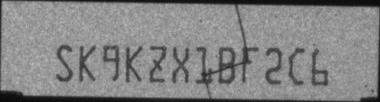1: (195, 45, 213, 84)
2: (263, 46, 282, 85)
6: (309, 46, 329, 84)
9: (102, 44, 120, 82)
B: (218, 44, 236, 84)
C: (287, 47, 305, 84)
F: (241, 45, 260, 83)
K: (124, 45, 143, 83), (78, 42, 95, 82)
S: (55, 43, 74, 83)
X: (170, 46, 190, 83)
Z: (148, 44, 167, 83)
